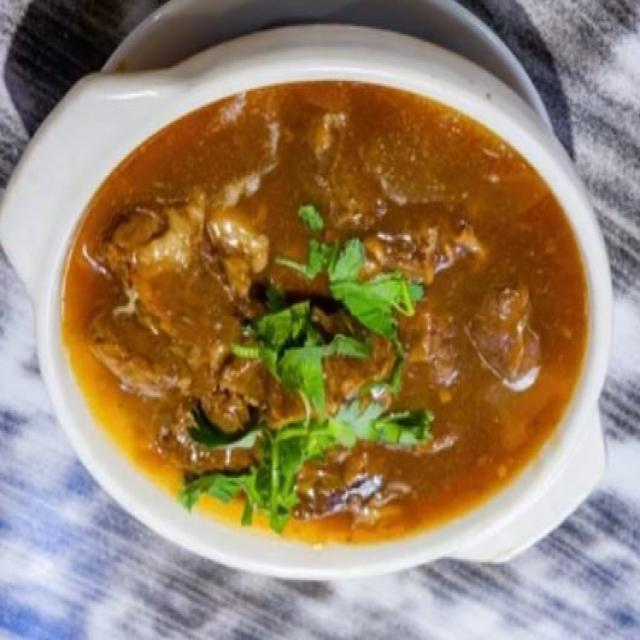kamouniya: (62, 98, 599, 566)
